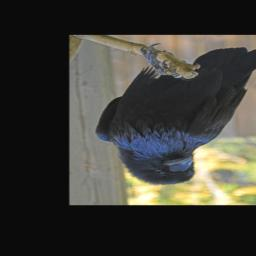Crow: (95, 43, 256, 186)
